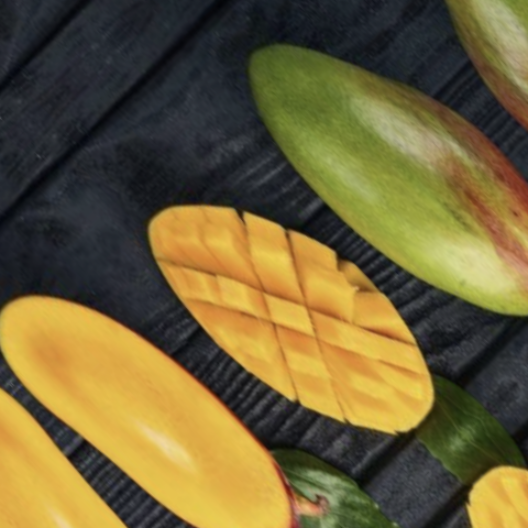mango: (78, 93, 475, 489), (195, 0, 528, 391), (0, 227, 356, 528)
